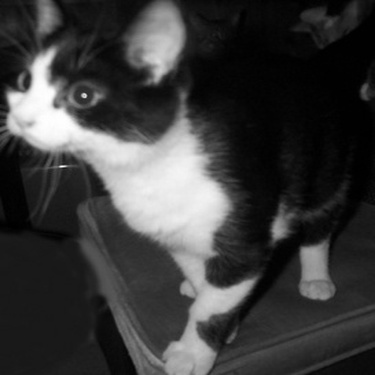cat: (3, 3, 369, 368)
